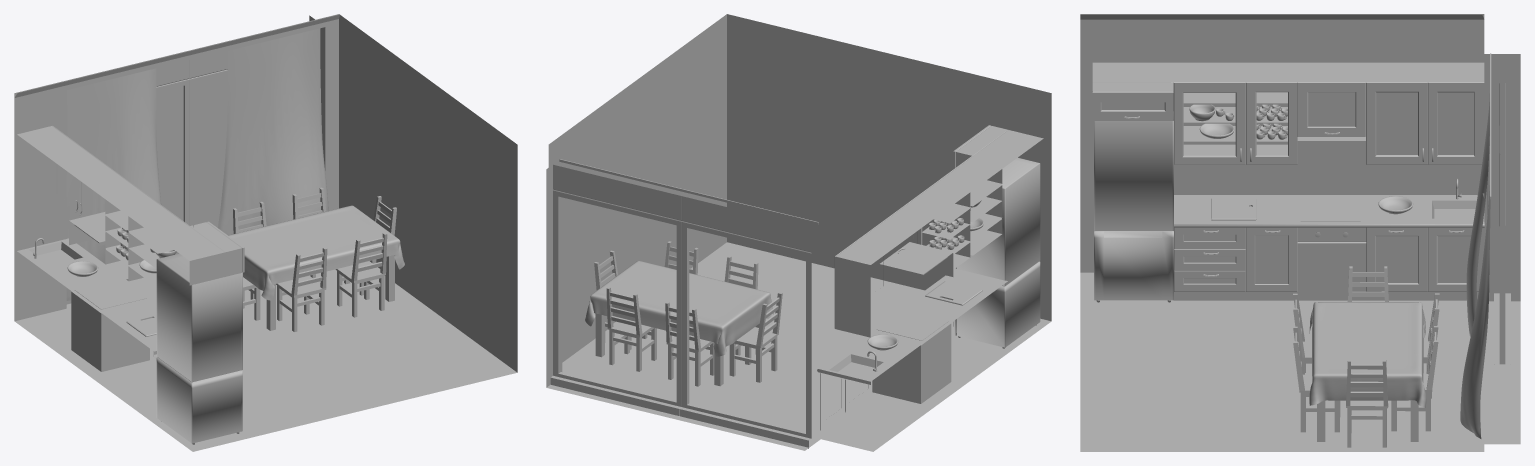
The model's file is room.glb.
3 renders of one model, left to right at view 1: azimuth 30°, elevation 25°; view 2: azimuth 150°, elevation 25°; view 3: azimuth 270°, elevation 25°, orthographic. The views are drawn at different scales.
Parts seen in each view (by area): view 1: CircleFBXASC046023; view 2: CircleFBXASC046023; view 3: CircleFBXASC046023.
Boxes of the visible parts, <box> form: CircleFBXASC046023: <box>14,14,517,451</box>; CircleFBXASC046023: <box>546,14,1051,451</box>; CircleFBXASC046023: <box>1080,14,1520,451</box>.
Bounding box in the file's own units: 2432 × 1642 × 2523.
1 material, 1 textured.
